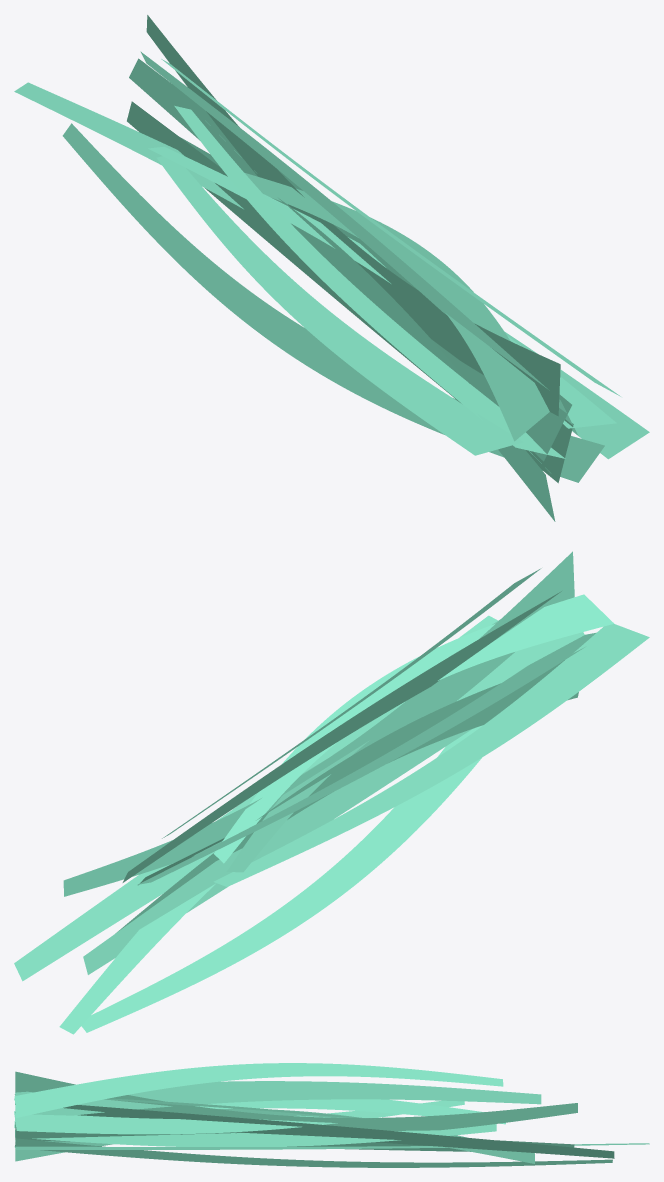
Rendered from kelp-grove-03.glb.
3 renders of one model, top to bottom at view 1: azimuth 30°, elevation 25°; view 2: azimuth 150°, elevation 25°; view 3: azimuth 270°, elevation 25°, orthographic. The views are drawn at different scales.
Parts seen in each view (by area): view 1: kelp-grove-03; view 2: kelp-grove-03; view 3: kelp-grove-03.
Boxes of the visible parts, x1,y1,x2,y2 form: kelp-grove-03: [14, 15, 649, 521]; kelp-grove-03: [14, 551, 649, 1034]; kelp-grove-03: [14, 1063, 649, 1167].
Bounding box in the file's own units: 1.97 × 1.96 × 10.52.
